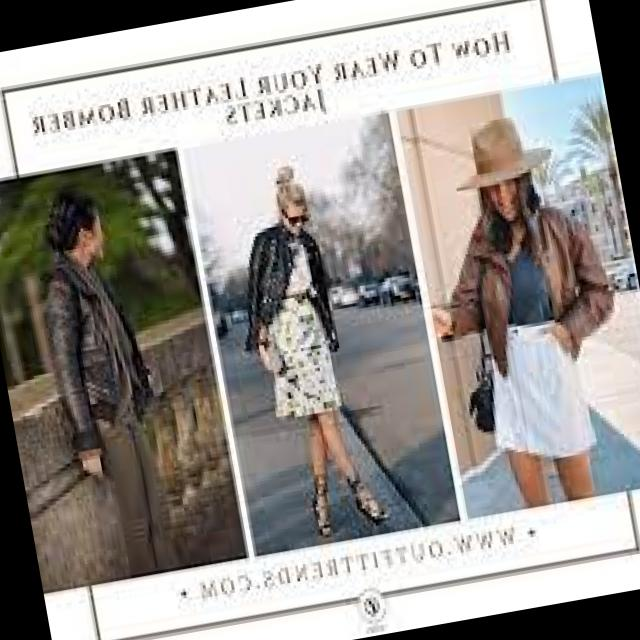Jacket: (413, 176, 635, 410), (28, 250, 168, 461), (220, 222, 360, 380)
